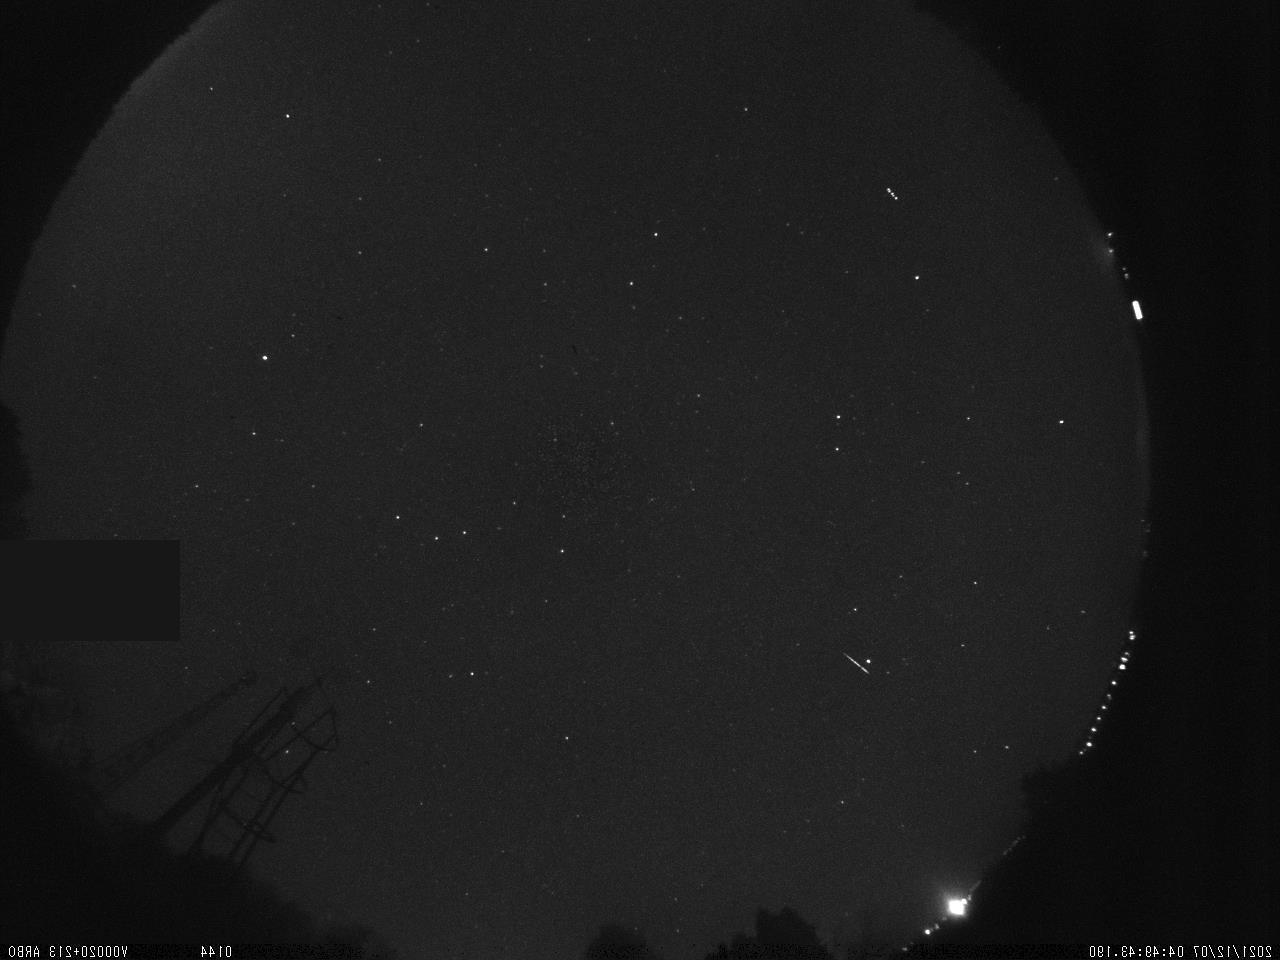meteor: (838, 648, 872, 684)
satelite: (883, 177, 904, 208)
